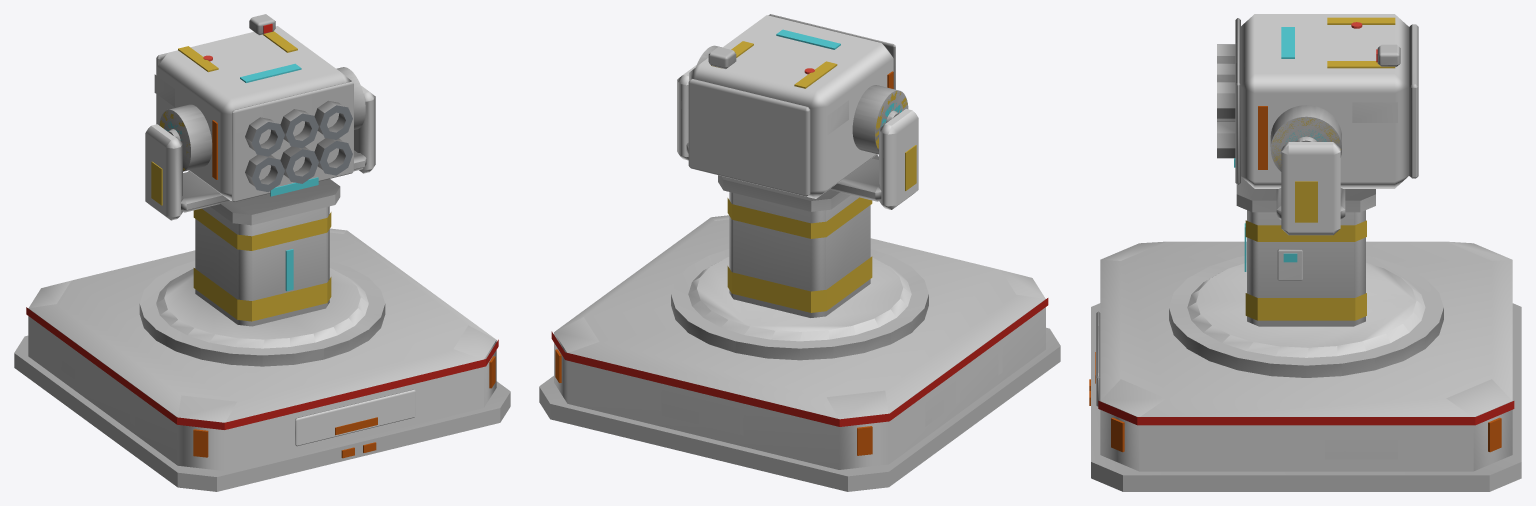
The model's file is mortar_1.glb.
3 views of the same model, side by side, from view 1: azimuth 30°, elevation 25°; view 2: azimuth 150°, elevation 25°; view 3: azimuth 270°, elevation 25° (orthographic). The views are drawn at different scales.
Visible parts, largest first — view 1: Rumpf, Werfer, Saeule, Gelenk; view 2: Rumpf, Werfer, Saeule, Gelenk; view 3: Rumpf, Werfer, Saeule, Gelenk.
Part boxes in pixels (bbox=[...]): Rumpf: bbox=[14, 228, 510, 491]; Werfer: bbox=[154, 14, 353, 201]; Saeule: bbox=[145, 55, 375, 326]; Gelenk: bbox=[159, 67, 365, 171]; Rumpf: bbox=[539, 215, 1060, 491]; Werfer: bbox=[688, 14, 895, 198]; Saeule: bbox=[677, 65, 918, 317]; Gelenk: bbox=[696, 45, 908, 154]; Rumpf: bbox=[1089, 241, 1521, 491]; Werfer: bbox=[1217, 14, 1418, 188]; Saeule: bbox=[1236, 22, 1375, 326]; Gelenk: bbox=[1270, 105, 1341, 171].
Bounding box in the file's own units: 0.94 × 0.8975 × 0.944.
